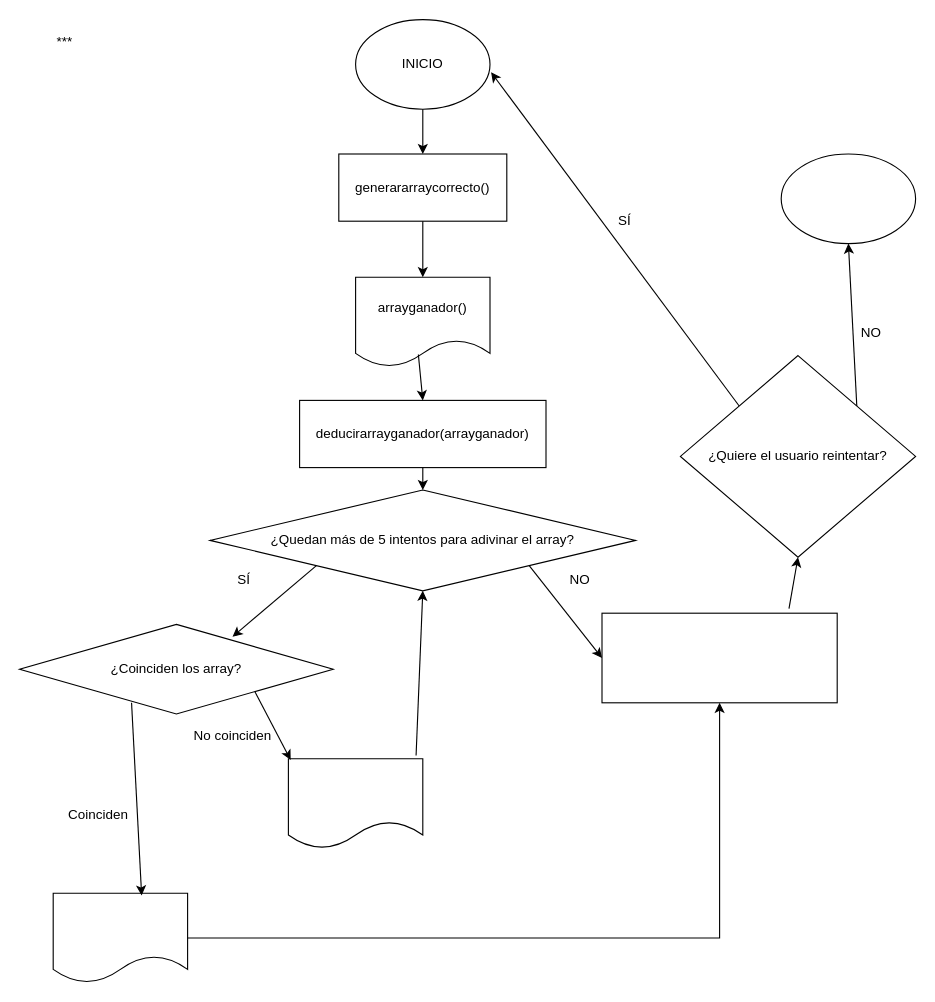
Image size: 935x1002. Some labels were removed from this diagram. Here are the shapes that lost their labels. From the top down, the centre of each, then its label:
(x=848, y=198): FIN
(x=719, y=657): preguntavolver()
(x=355, y=803): "Lo sentimos, vuelvelo a intentar"
(x=120, y=937): "Enhorabuena, acertaste el numerote"
